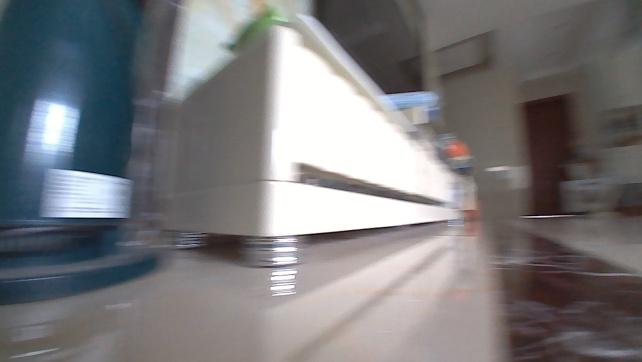TV_stand: (173, 0, 459, 268)
